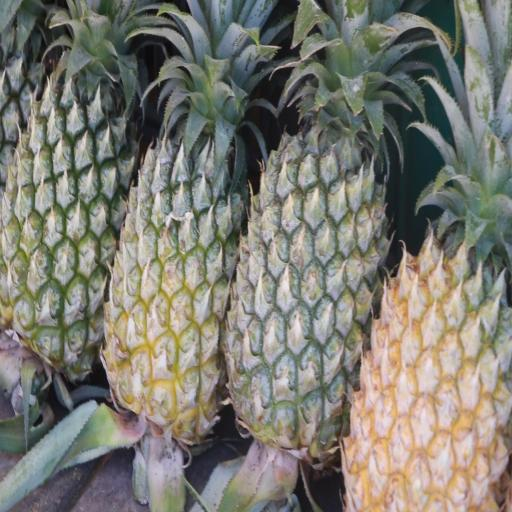------------------------------: (100, 0, 247, 454)
Pineapple - v8 v1: (337, 136, 512, 512)
